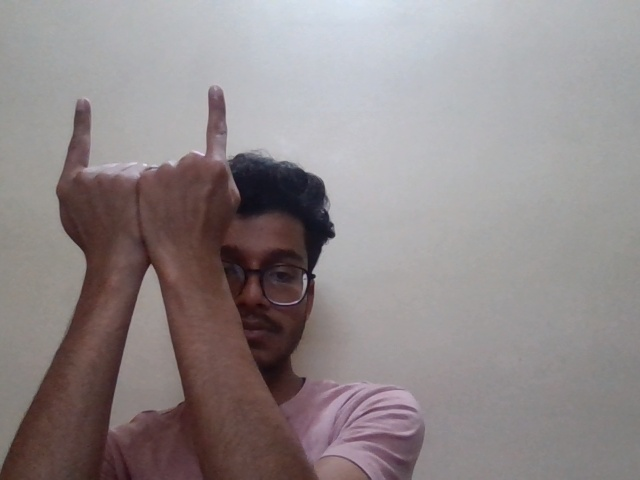when: (50, 73, 251, 238)
